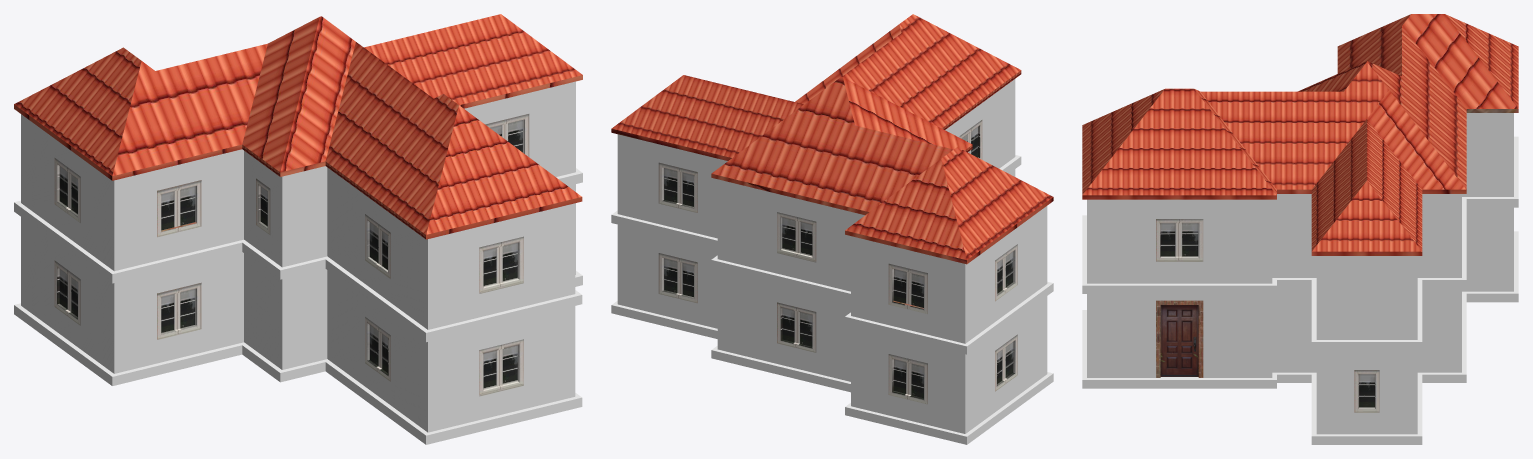
Rendered from kucaaa.fbx.
The picture shows the model from 3 angles, left to right: view 1: azimuth 30°, elevation 25°; view 2: azimuth 150°, elevation 25°; view 3: azimuth 270°, elevation 25°; orthographic projection. The views are drawn at different scales.
Visible parts, largest first — view 1: building_015; view 2: building_015; view 3: building_015.
Part boxes in pixels (x1=…): building_015: x1=14, y1=14, x2=582, y2=444; building_015: x1=611, y1=14, x2=1053, y2=444; building_015: x1=1082, y1=14, x2=1518, y2=444.
Bounding box in the file's own units: 920 × 1024 × 650.
